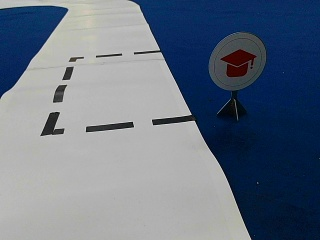school: (209, 32, 266, 90)
